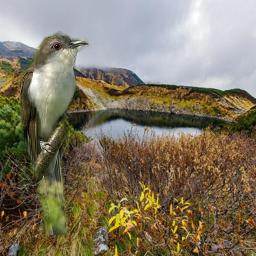Cuckoo: (20, 28, 89, 235)
